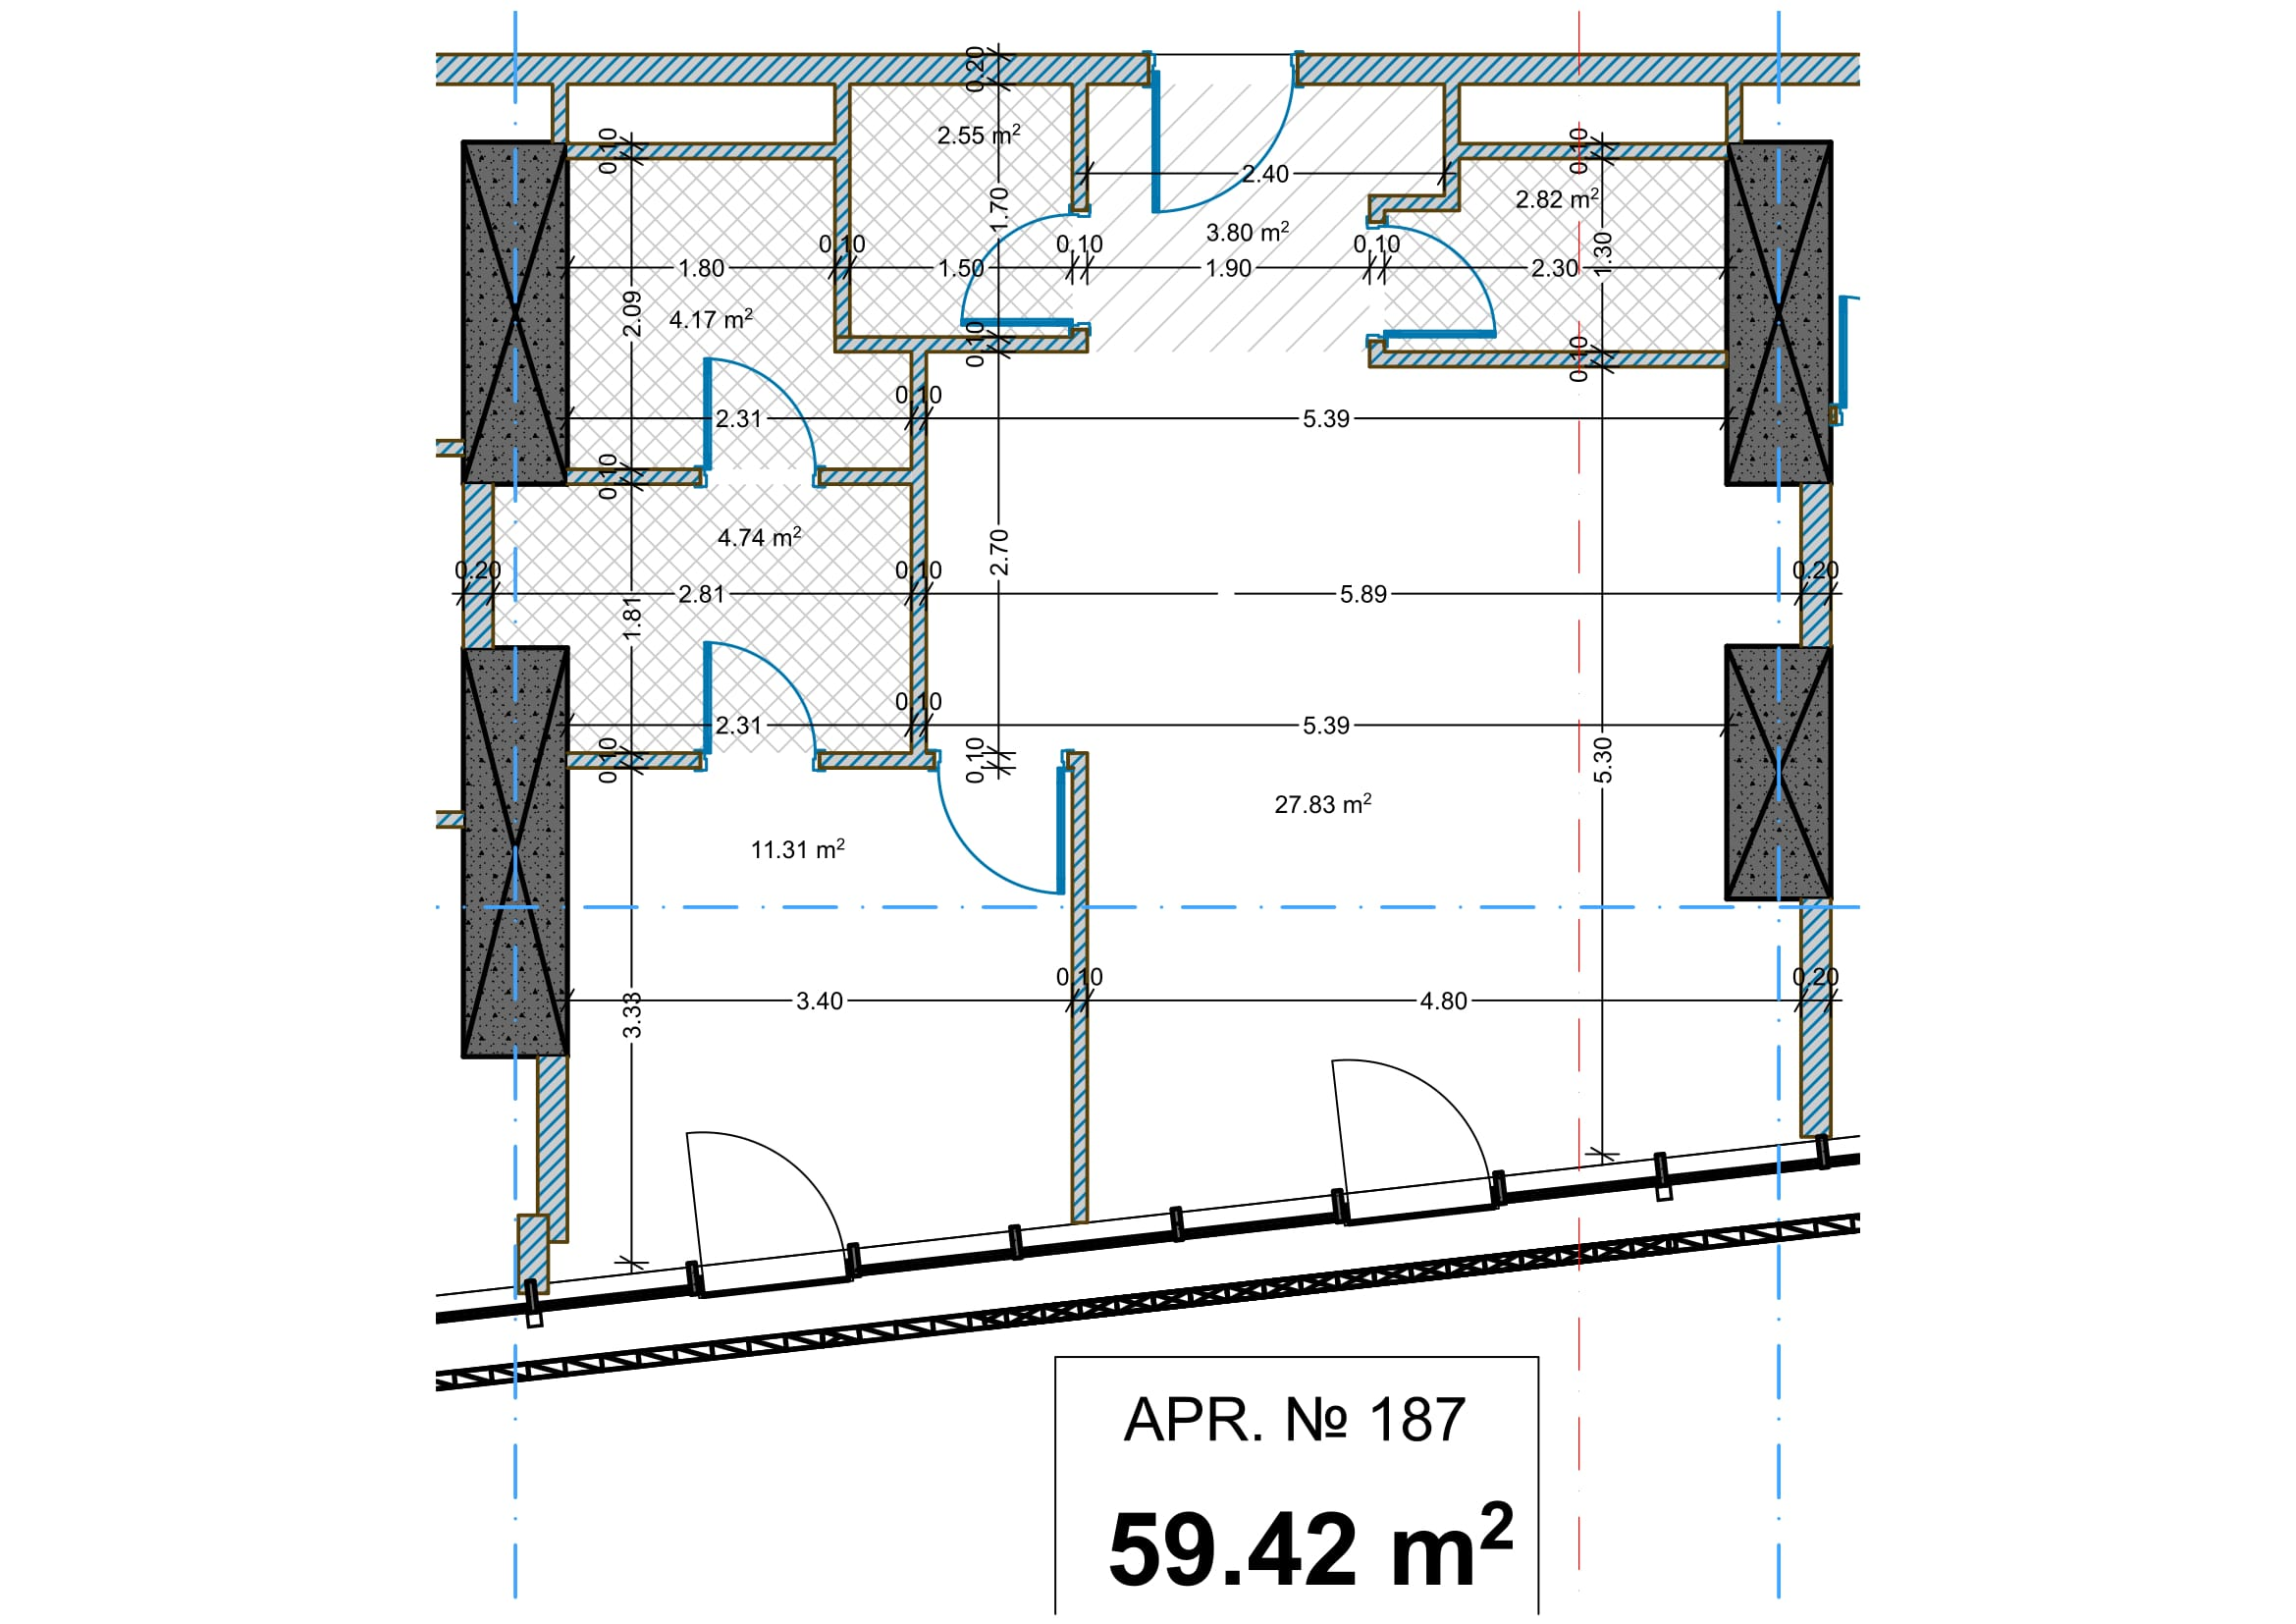door: (673, 1120, 877, 1283), (1296, 1028, 1516, 1179), (1145, 47, 1309, 223), (912, 747, 1080, 905), (678, 346, 833, 478), (694, 636, 819, 793), (1354, 223, 1511, 334)
wall: (418, 32, 1154, 90), (906, 350, 929, 735)
